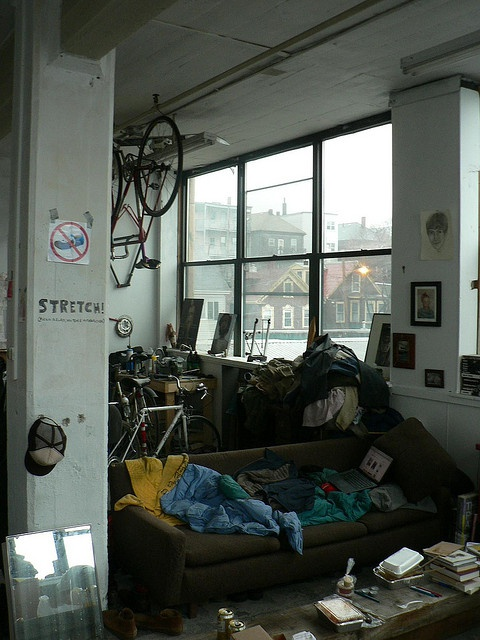non-vehicle: (110, 113, 188, 275), (108, 374, 220, 463)
